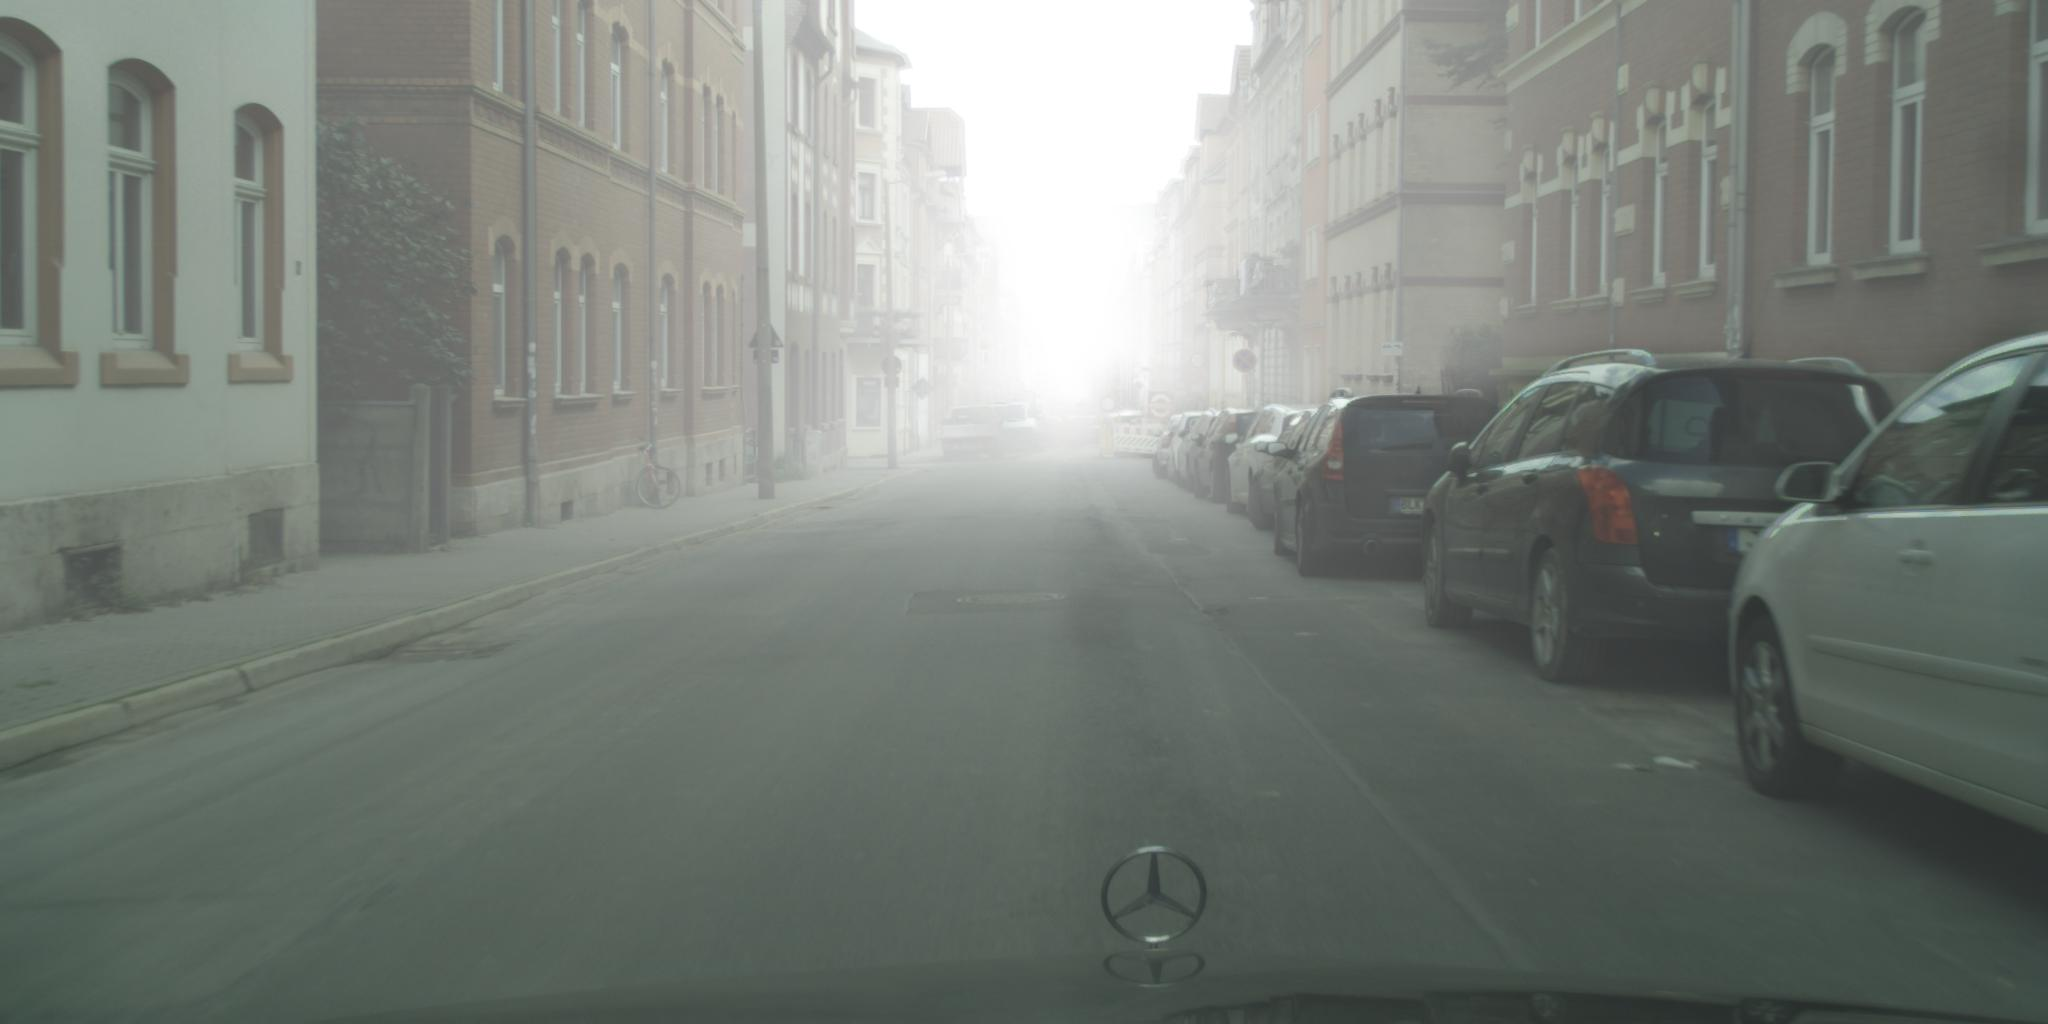bicycle: (636, 436, 682, 511)
car: (1421, 347, 1898, 688), (1728, 333, 2048, 833), (1266, 388, 1505, 581), (1223, 404, 1327, 519), (1247, 409, 1324, 539), (1192, 408, 1264, 505), (940, 406, 1004, 462), (1169, 411, 1211, 486), (1178, 419, 1217, 496), (987, 404, 1041, 451), (1151, 415, 1183, 482), (1068, 415, 1101, 445)
truck: (940, 406, 1004, 462)
